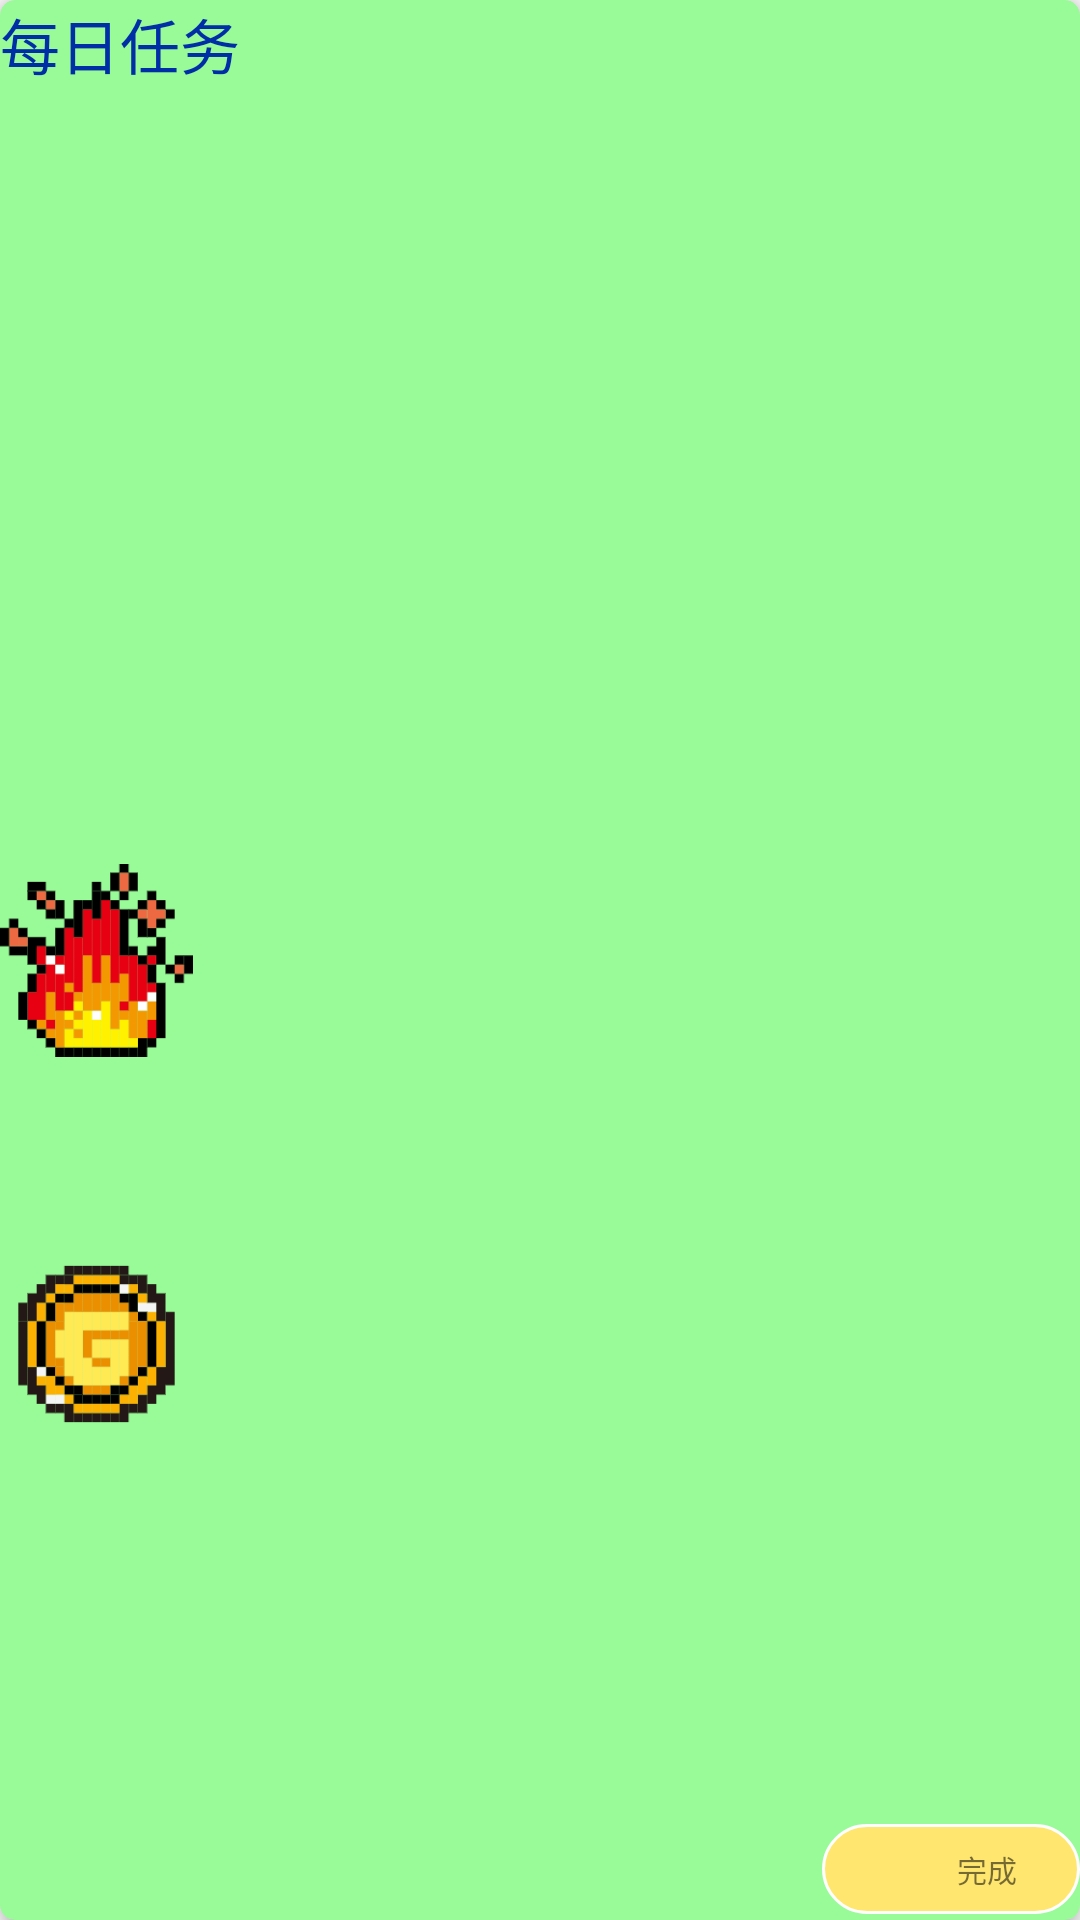

Where icons sit on this 1080×1920 app screen, as [x1=x1, y1=y1, x2=x2, y2=y2]:
coin pixel: [x1=18, y1=1265, x2=175, y2=1423]
fire pixel: [x1=0, y1=864, x2=193, y2=1057]
